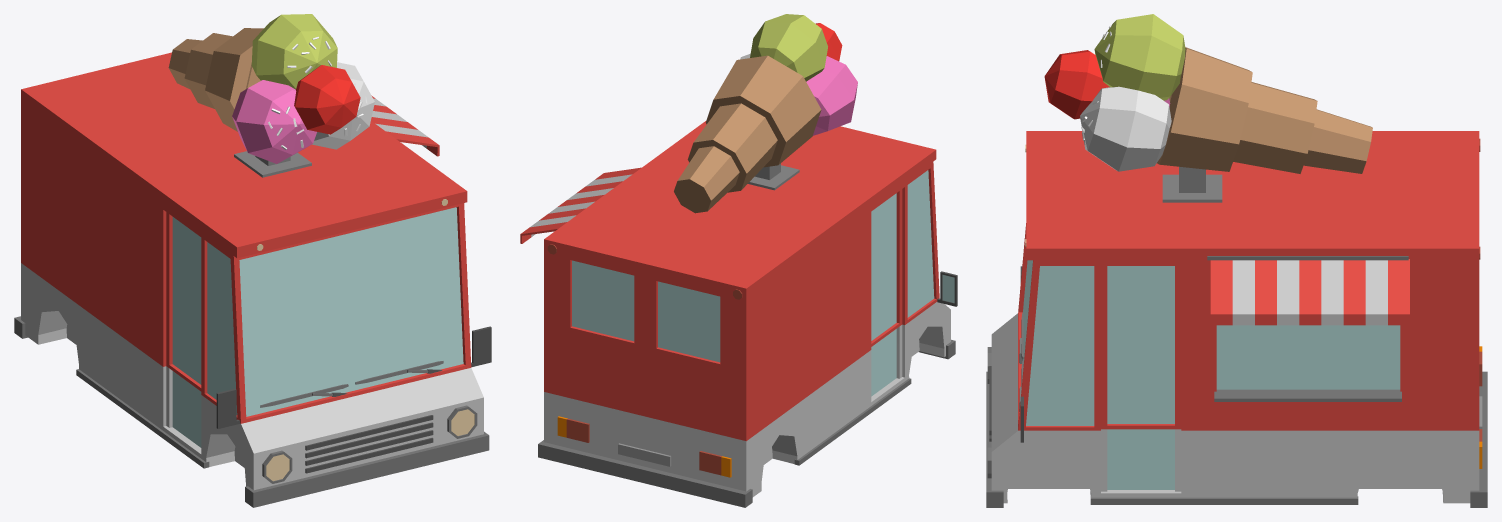
Rendered from Car_16.fbx.
The picture shows the model from 3 angles, left to right: view 1: azimuth 30°, elevation 25°; view 2: azimuth 150°, elevation 25°; view 3: azimuth 270°, elevation 25°; orthographic projection. The views are drawn at different scales.
Parts seen in each view (by area): view 1: Car_16; view 2: Car_16; view 3: Car_16.
Boxes of the visible parts, bbox=[...] form: Car_16: bbox=[14, 14, 491, 507]; Car_16: bbox=[520, 14, 957, 507]; Car_16: bbox=[986, 14, 1487, 507].
Size of the model in its own units: 271 by 339 by 360.
